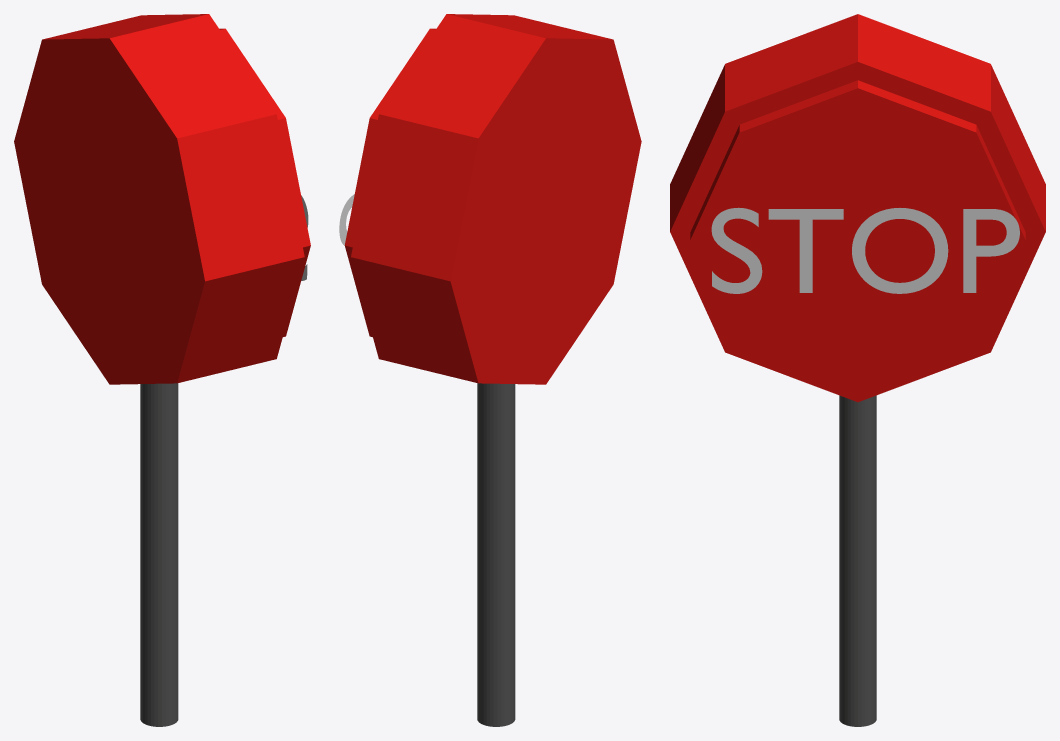
File: StopSign.fbx
3 views of the same model, side by side, from view 1: azimuth 30°, elevation 25°; view 2: azimuth 150°, elevation 25°; view 3: azimuth 270°, elevation 25° (orthographic).
Parts seen in each view (by area): view 1: Cylinder.001; view 2: Cylinder.001; view 3: Cylinder.001, Text.
Part boxes in pixels (left/top/right/bottom): Cylinder.001: left=14, top=14, right=310, bottom=726; Cylinder.001: left=344, top=14, right=641, bottom=726; Cylinder.001: left=670, top=14, right=1045, bottom=726; Text: left=711, top=207, right=1019, bottom=293.
Size of the model in its own units: 75.45 by 400 by 200.
